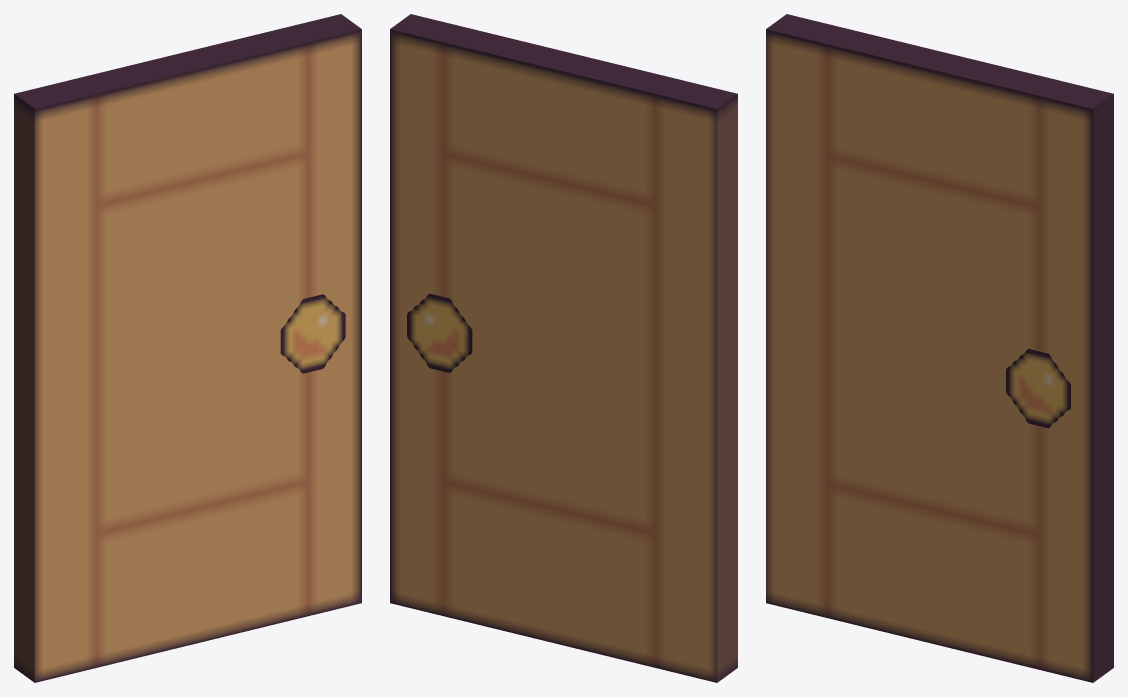
Rendered from door.fbx.
3 renders of one model, left to right at view 1: azimuth 30°, elevation 25°; view 2: azimuth 150°, elevation 25°; view 3: azimuth 330°, elevation 25°, orthographic.
Visible parts, largest first — view 1: Cube.012; view 2: Cube.012; view 3: Cube.012.
Boxes of the visible parts, bbox=[...] form: Cube.012: bbox=[14, 14, 361, 682]; Cube.012: bbox=[390, 14, 737, 682]; Cube.012: bbox=[766, 14, 1113, 682].
Size of the model in its own units: 154 by 258 by 20.96.
1 material, 1 textured.
